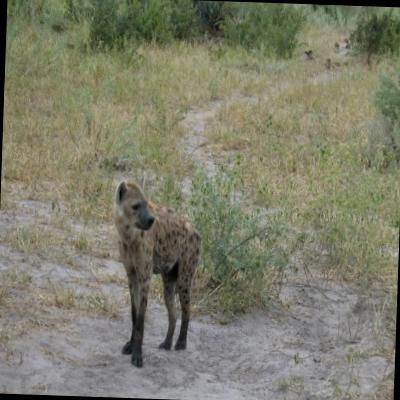hyenas: (74, 168, 225, 378)
